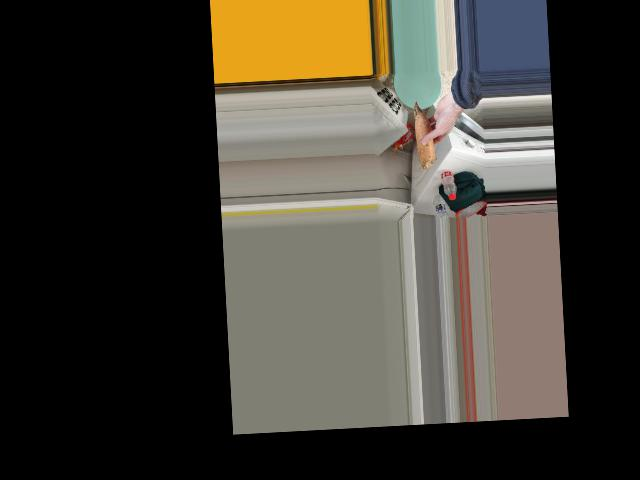sweet_potato: (408, 101, 436, 167)
